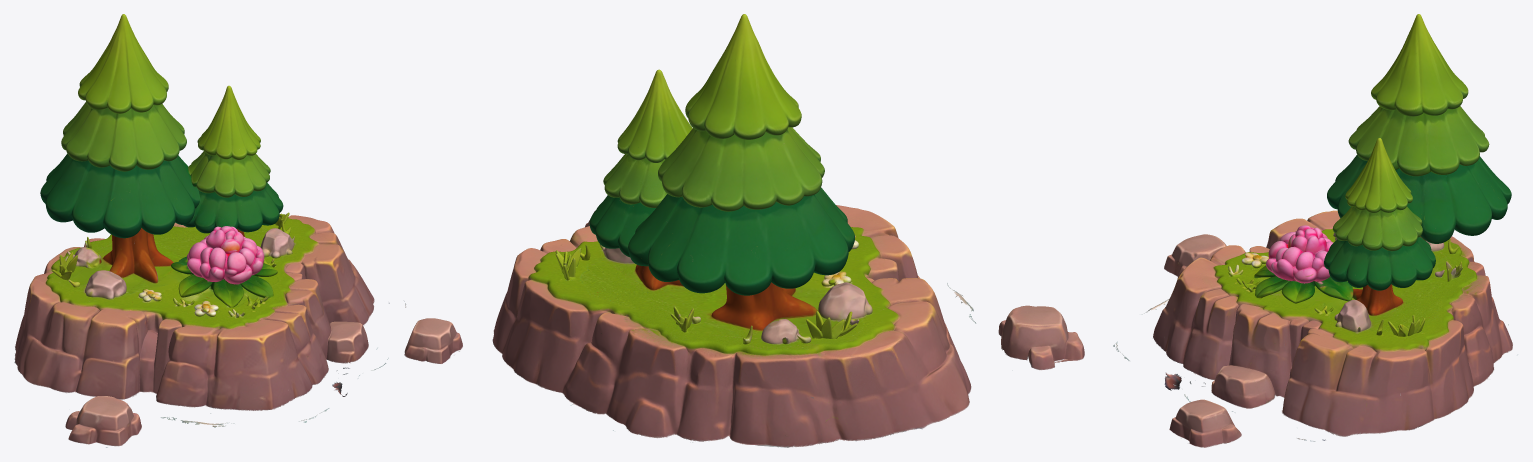
The model's file is pine-flower-islet-01.glb.
The picture shows the model from 3 angles, left to right: view 1: azimuth 30°, elevation 25°; view 2: azimuth 150°, elevation 25°; view 3: azimuth 270°, elevation 25°; orthographic projection. The views are drawn at different scales.
Bounding box in the file's own units: 1.65 × 1.27 × 1.44.
Materials: 1 (1 with a texture image).
